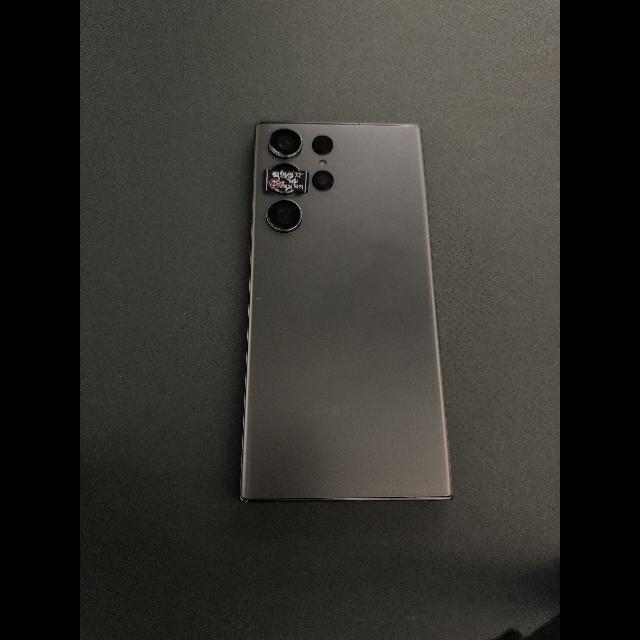lens: (267, 199, 302, 232), (269, 129, 302, 158), (312, 135, 333, 154), (271, 163, 300, 171)
phone: (240, 122, 452, 501)
sticker: (263, 169, 309, 193)
